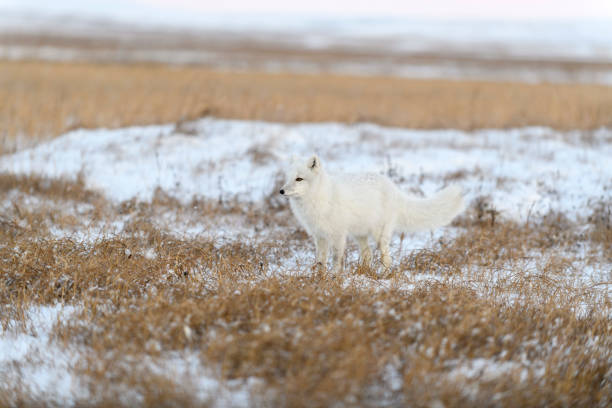arcticfox: (274, 171, 319, 210)
